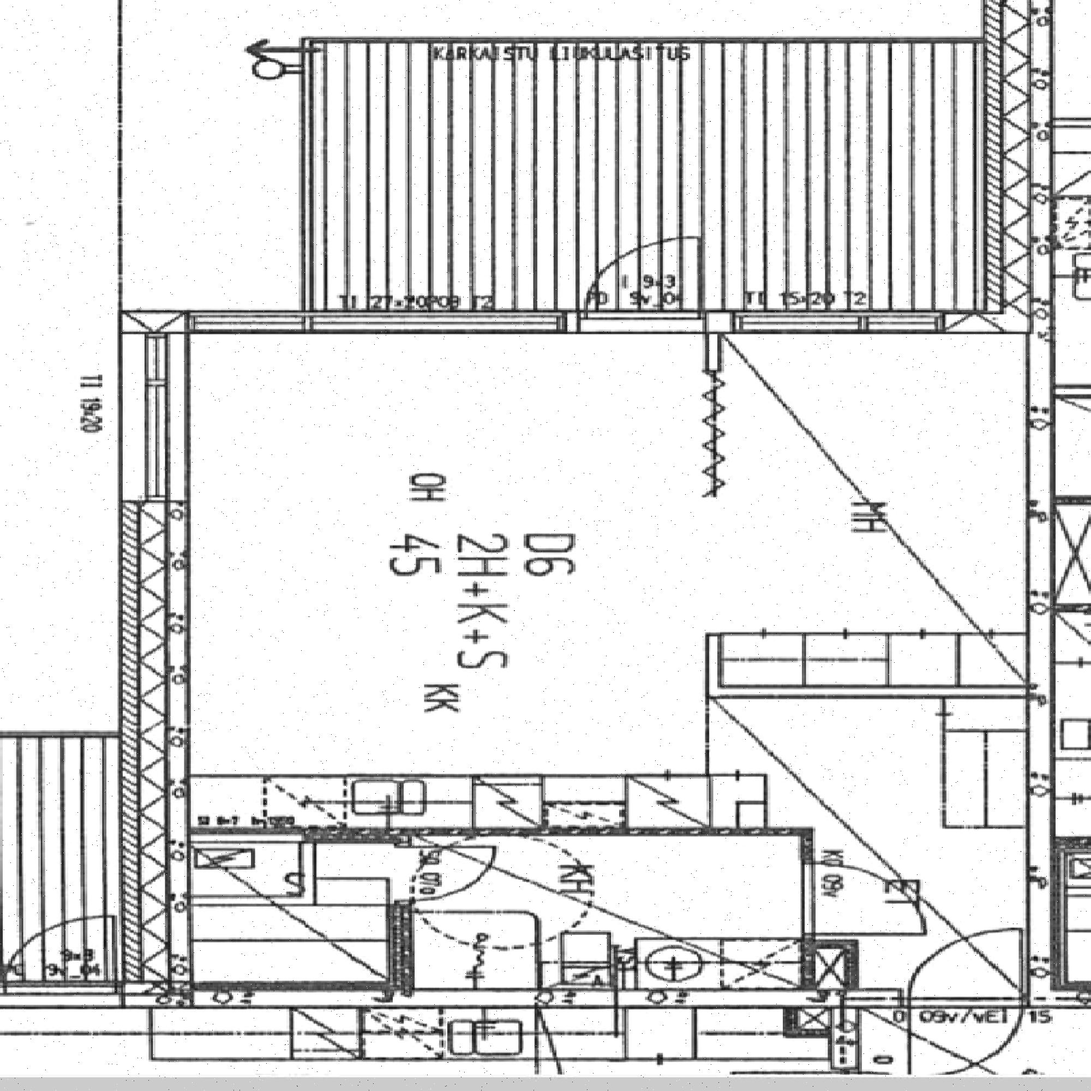wall: (122, 312, 189, 1008), (976, 35, 1055, 312), (122, 312, 1055, 335), (1026, 312, 1055, 1008), (407, 990, 901, 1008), (122, 982, 407, 1008), (706, 335, 721, 695), (389, 828, 815, 837), (706, 686, 1026, 696), (799, 939, 858, 990), (389, 828, 407, 990), (189, 828, 407, 837), (901, 996, 1055, 1008), (799, 828, 814, 939)
